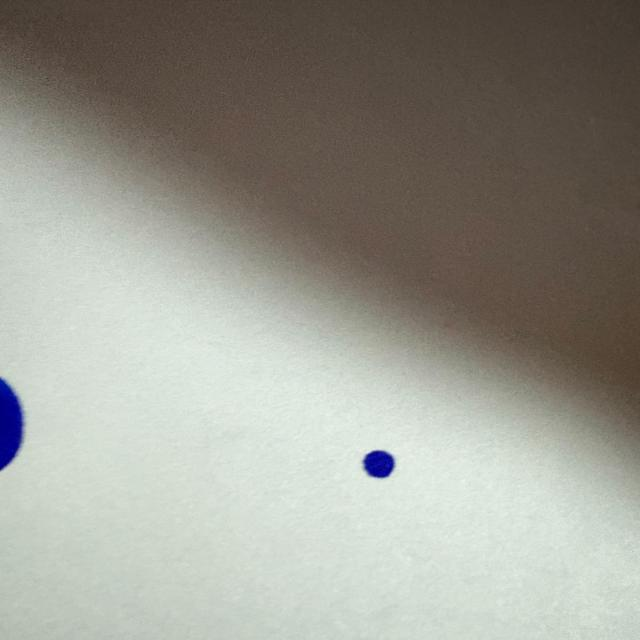Circle: (357, 448, 400, 481)
